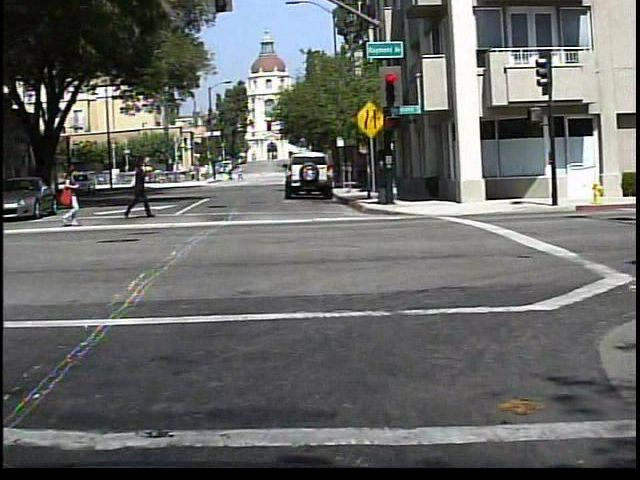person: (117, 157, 155, 222), (50, 161, 84, 229), (233, 165, 244, 186), (224, 166, 234, 186)
